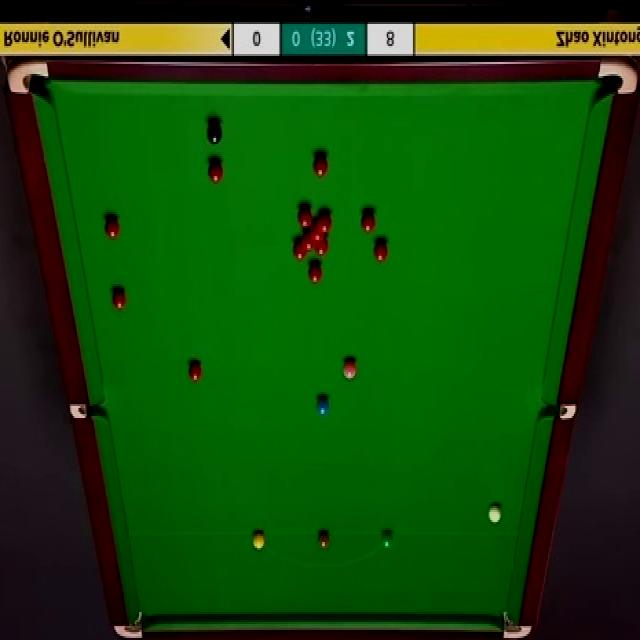black-ball: (207, 117, 223, 144)
blue-ball: (316, 395, 330, 418)
brown-ball: (318, 530, 330, 552)
green-ball: (380, 529, 393, 548)
pink-ball: (343, 359, 357, 380)
red-ball: (372, 235, 390, 263), (360, 208, 378, 235), (104, 215, 120, 242), (112, 285, 128, 311), (313, 153, 328, 179), (208, 160, 224, 184), (297, 204, 312, 229), (308, 260, 322, 284), (292, 238, 306, 262), (318, 211, 332, 234), (188, 362, 202, 383), (302, 232, 315, 251), (316, 236, 328, 256), (311, 223, 324, 241)
white-ball: (486, 501, 501, 526)
yellow-ball: (252, 529, 265, 550)
